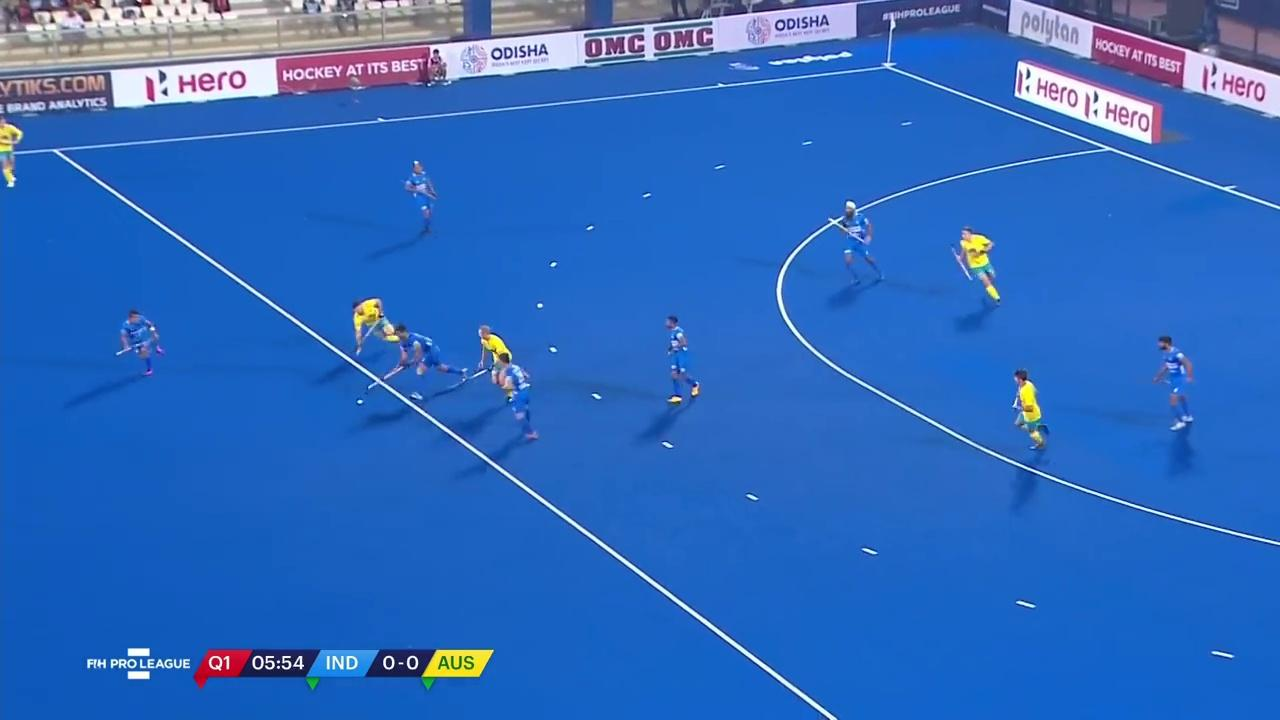ball: (354, 392, 368, 410)
